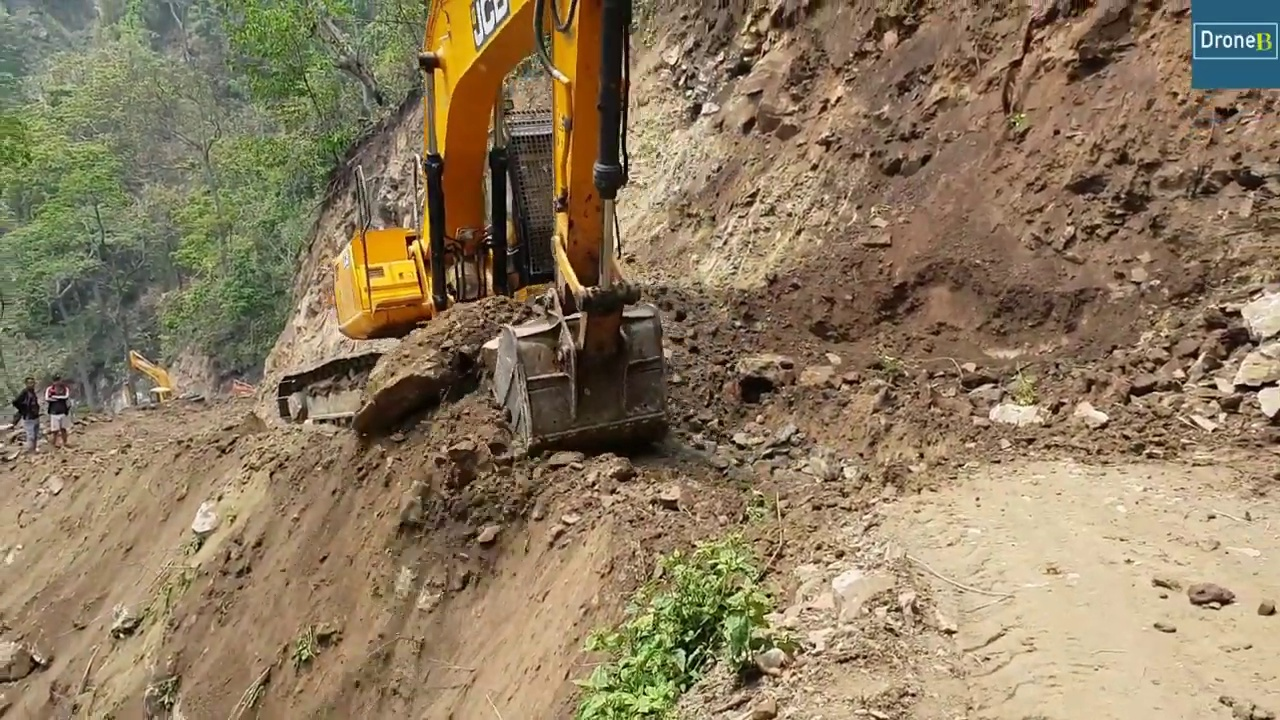excavator: (275, 4, 672, 451), (127, 346, 171, 410)
person: (47, 373, 69, 447), (17, 376, 36, 448)
